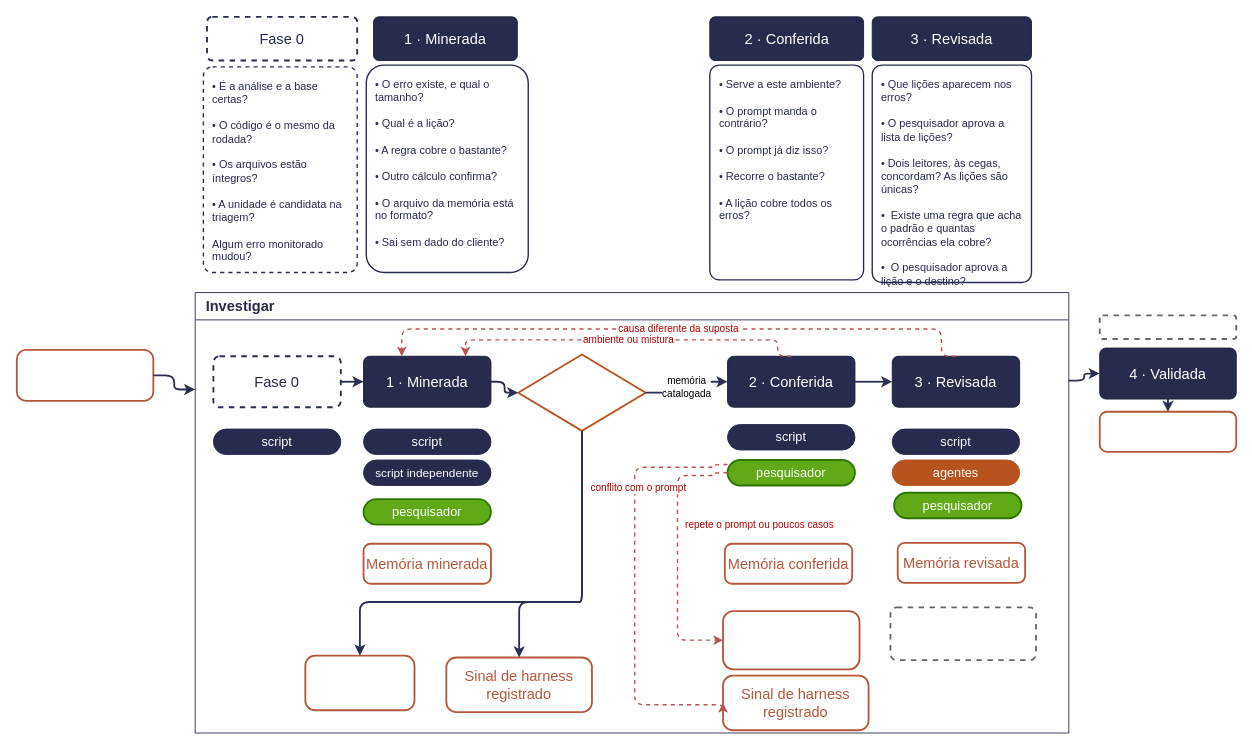
This 1252x749 diagram has some shape labels left out. Each missing label, with the centre of its shape:
"ainda não executado" goes at point 1167,326.
"Em aberto fora do catálogo" goes at point 359,682.
"em andamento:" goes at point 962,633.
"Encaminhamento" goes at point 581,392.
"Memória candidata" goes at point 84,375.
"Memória monitorada rara ou reforço: não injetada" goes at point 791,640.
"Memória validada" goes at point 1167,431.
